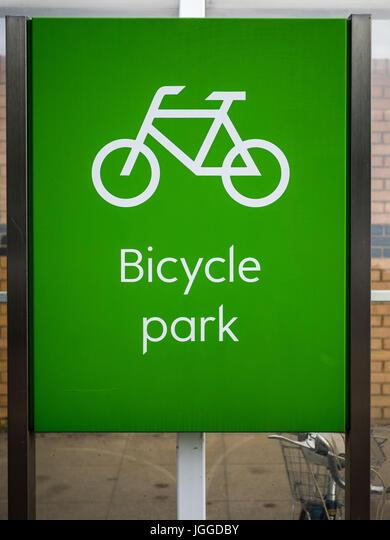Parking Lot Cycle: (69, 56, 301, 377)
